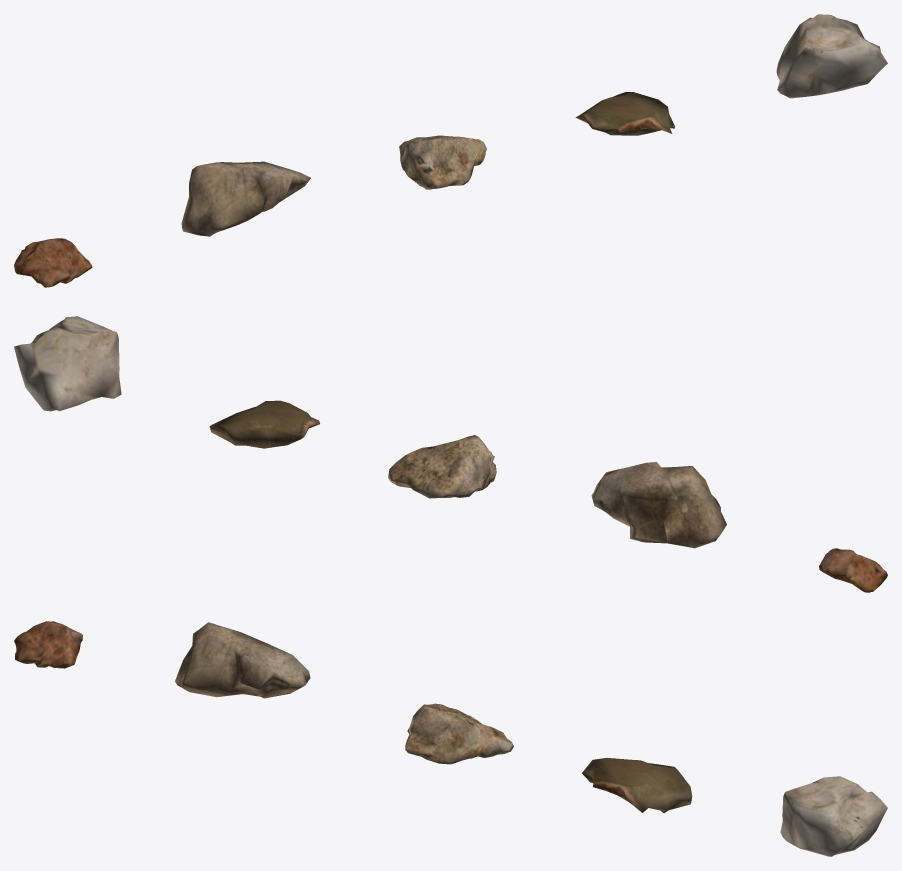
File: stones.glb
3 views of the same model, one above another, from view 1: azimuth 30°, elevation 25°; view 2: azimuth 150°, elevation 25°; view 3: azimuth 330°, elevation 25° (orthographic).
Parts seen in each view (by area): view 1: namaqualand_stones_01_e, namaqualand_stones_01_b, namaqualand_stones_01_c, namaqualand_stones_01_d, namaqualand_stones_01_a; view 2: namaqualand_stones_01_b, namaqualand_stones_01_e, namaqualand_stones_01_c, namaqualand_stones_01_d, namaqualand_stones_01_a; view 3: namaqualand_stones_01_b, namaqualand_stones_01_e, namaqualand_stones_01_c, namaqualand_stones_01_d, namaqualand_stones_01_a.
Boxes of the visible parts, x1,y1,x2,y2 form: namaqualand_stones_01_e: [776, 14, 887, 98]; namaqualand_stones_01_b: [181, 161, 310, 236]; namaqualand_stones_01_c: [399, 135, 486, 189]; namaqualand_stones_01_d: [575, 92, 674, 135]; namaqualand_stones_01_a: [14, 238, 92, 287]; namaqualand_stones_01_b: [591, 462, 726, 548]; namaqualand_stones_01_e: [14, 316, 121, 411]; namaqualand_stones_01_c: [388, 435, 496, 498]; namaqualand_stones_01_d: [209, 400, 319, 448]; namaqualand_stones_01_a: [819, 548, 887, 592]; namaqualand_stones_01_b: [175, 622, 310, 698]; namaqualand_stones_01_e: [780, 776, 887, 856]; namaqualand_stones_01_c: [405, 703, 513, 764]; namaqualand_stones_01_d: [582, 758, 692, 812]; namaqualand_stones_01_a: [14, 621, 82, 668].
Size of the model in its own units: 1.02 by 0.084 by 0.1119.
1 material, 1 textured.
